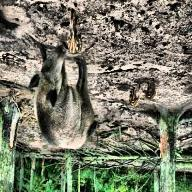boar: (22, 49, 109, 160), (62, 9, 87, 62), (124, 81, 143, 105), (143, 76, 159, 103)
